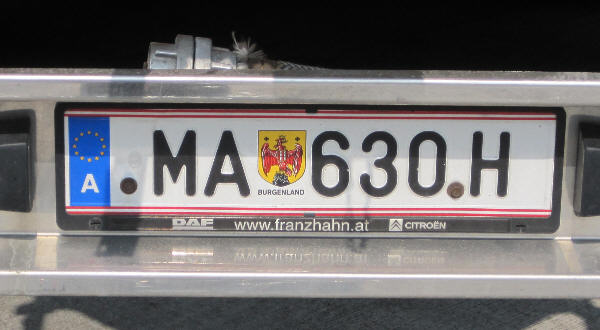license_plate: (63, 107, 555, 216)
